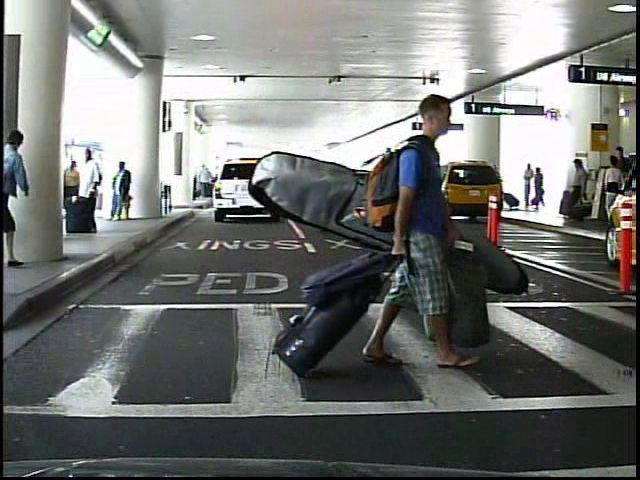person: (364, 82, 471, 379), (78, 146, 104, 237), (595, 154, 622, 231), (107, 160, 133, 226), (565, 157, 588, 225), (61, 158, 81, 231), (611, 142, 627, 227), (520, 162, 535, 210), (532, 168, 543, 212)
